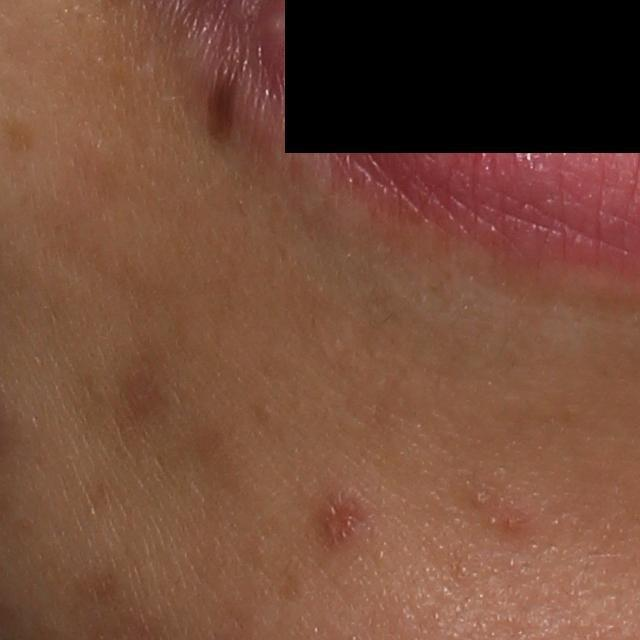nevus: (199, 67, 247, 142)
